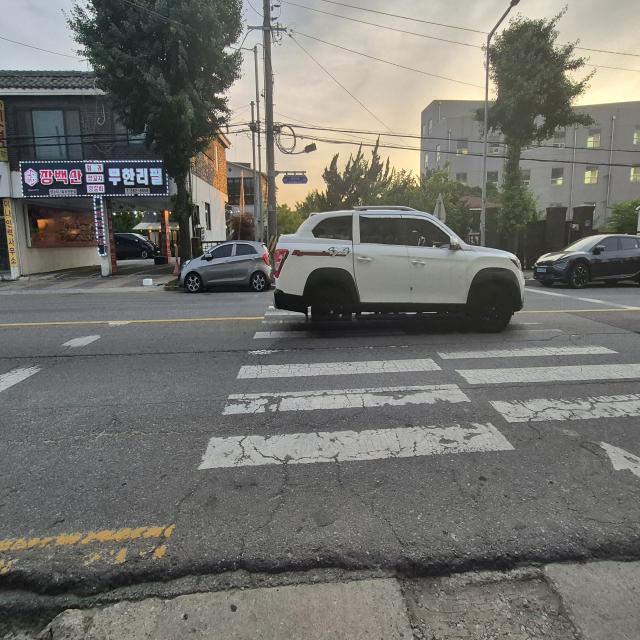car: (268, 206, 534, 329), (530, 233, 640, 288), (178, 240, 276, 293)
